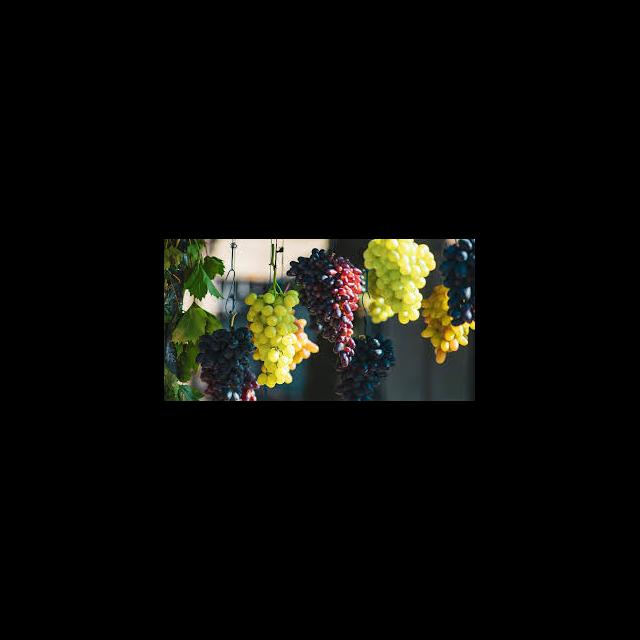grape: (286, 247, 366, 367), (440, 239, 474, 328)
